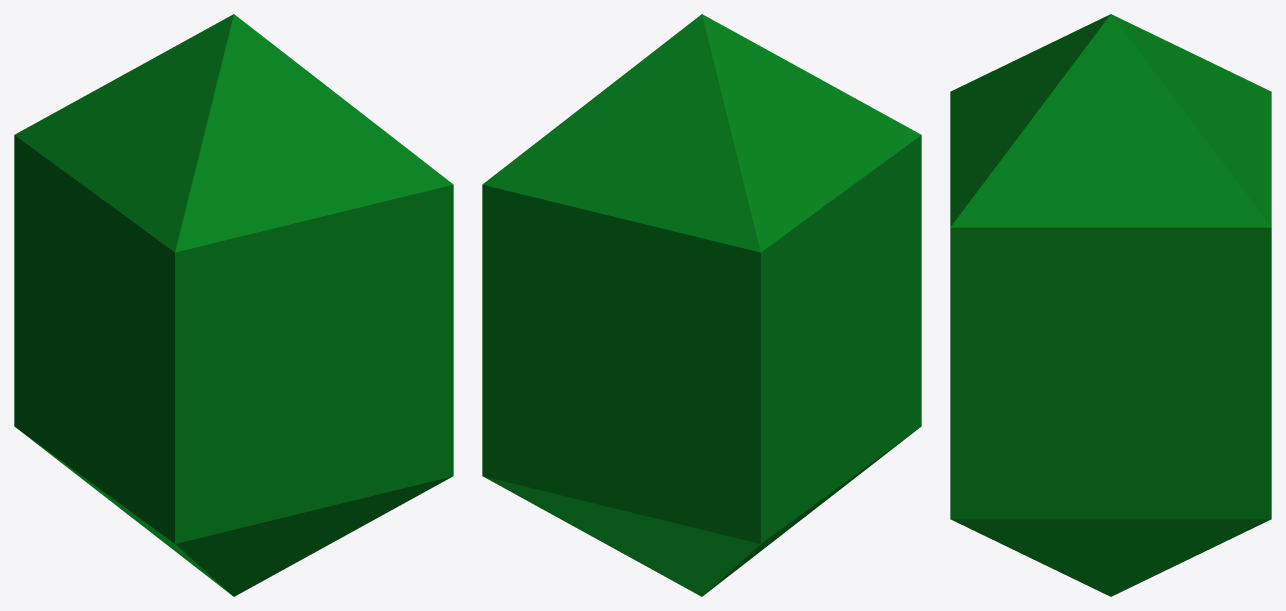
The model's file is tarea1.obj.
The picture shows the model from 3 angles, left to right: view 1: azimuth 30°, elevation 25°; view 2: azimuth 150°, elevation 25°; view 3: azimuth 270°, elevation 25°; orthographic projection.
Bounding box in the file's own units: 2 × 4 × 2.
